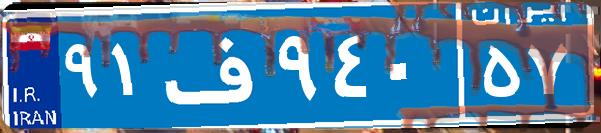0: (385, 28, 445, 110)
1: (110, 28, 158, 105)
4: (330, 28, 385, 110)
5: (475, 38, 525, 113)
7: (525, 38, 570, 115)
9: (273, 28, 330, 110), (57, 26, 110, 107)
ف: (158, 15, 273, 115)
